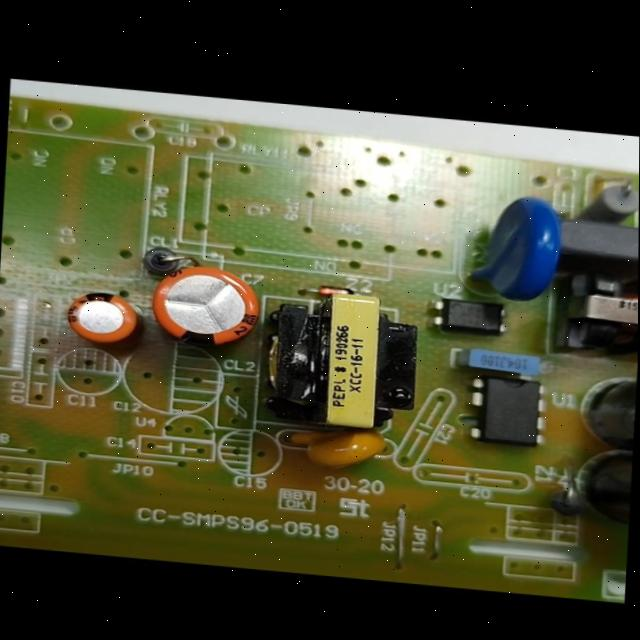Cap1: (145, 255, 273, 358)
Cap2: (60, 287, 152, 355)
Cap3: (573, 358, 637, 455)
Cap4: (580, 439, 633, 530)
MOSFET: (461, 369, 558, 454)
Mov: (464, 187, 571, 314)
Resistor: (570, 174, 638, 235)
Transformer: (247, 277, 425, 443), (541, 261, 637, 368)
